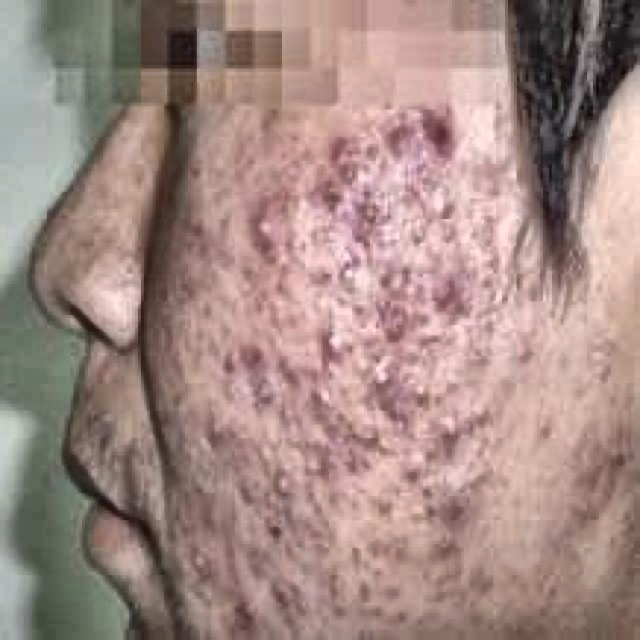nodule: (417, 109, 464, 161), (306, 133, 356, 178), (344, 198, 382, 256), (570, 486, 608, 544), (432, 479, 472, 527), (320, 253, 364, 294), (314, 438, 361, 476), (312, 383, 346, 435), (243, 206, 284, 247), (314, 325, 358, 363), (450, 390, 484, 438), (229, 578, 261, 626), (394, 366, 428, 411), (262, 466, 302, 503), (208, 411, 241, 455), (420, 188, 458, 226), (217, 534, 247, 582), (391, 147, 428, 185), (288, 442, 326, 479), (270, 578, 311, 612), (300, 219, 340, 253), (384, 257, 420, 294), (390, 445, 426, 482), (314, 182, 352, 216), (387, 315, 420, 352), (235, 469, 267, 506), (431, 270, 461, 308), (264, 254, 297, 288), (358, 352, 385, 393), (258, 503, 285, 544), (382, 113, 414, 147), (279, 346, 308, 383), (256, 380, 290, 411), (235, 336, 261, 376), (367, 479, 396, 514), (578, 452, 605, 489), (279, 298, 314, 325), (179, 226, 209, 257), (208, 339, 235, 373), (376, 568, 405, 599), (505, 335, 537, 363), (320, 565, 346, 599), (197, 503, 223, 537), (264, 291, 285, 332), (429, 411, 449, 452), (525, 411, 555, 438), (349, 572, 376, 602), (370, 294, 396, 325), (364, 551, 388, 582), (194, 544, 211, 585), (361, 595, 385, 623), (188, 472, 211, 500), (326, 592, 352, 616), (346, 538, 364, 572)
